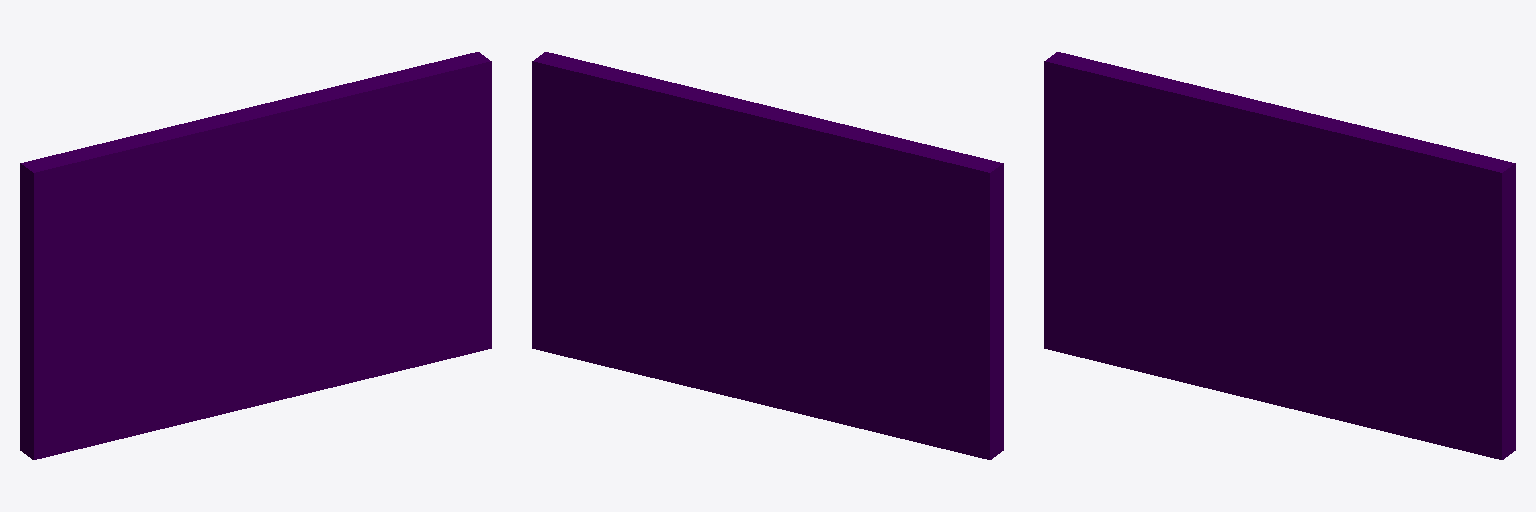
The robot description file, URDF, robot "car_robot":
<?xml version='1.0'?>

<robot name="car_robot">
    
    <material name="blue">
        <color rgba="0 0.4 0.5 1"/>
    </material>
    
    <!--dummy link-->
    <link name="base_link"/>
    
    
    <!-- chassis link -->
    <link name="chassis-link">
        <visual>
            <origin xyz="0 0 0" rpy="0 0 0" />
            <geometry>
                <box size="0.2 0.12 .01" />
            </geometry>
            <material name="brown">
                <color rgba="0.3 0 0.4 1"/>
            </material>        
        </visual>
        <collision>
            <origin xyz="0 0 0" rpy="0 0 0" />
            <geometry>
                <box size="0.2 0.12 .01" />
            </geometry>
        </collision>
        <inertial>
            <mass value="0.4" />
            <inertia ixx="0.00048333" iyy="0.0013367" izz="0.0018133"
            ixy="0" ixz="0" iyz="0"/>
        </inertial>
    </link>





    <!-- Custom body link -->
    <!-- <link name="chassis-link">
         <fem>
		    <origin xyz="0.06 -0.06 0" rpy="1.57079 0 0" />
            <density value="1040"/>
            <youngs value="1.2e7"/>
            <poissons value="0.36"/>
            <damping value="0.0"/>
            <attachDistance value="0.5"/>
            <tetmesh filename="body_v2.tet"/>
            <scale value="0.001"/>
        </fem>
    </link> -->



    
    <!-- Soft body link attached to the chassis -->
    <link name="soft-leg-front-left" type="revolute">
        <fem>
		    <origin xyz="0.06 -0.06 0" rpy="1.57079 0 0" />
            <density value="1040"/>
            <youngs value="1.2e7"/>
            <poissons value="0.36"/>
            <damping value="0.0"/>
            <attachDistance value="0.5"/>
            <tetmesh filename="deneme.tet"/>
            <scale value="0.001"/>
        </fem>
    </link>

    <!-- Soft body link attached to the chassis -->
    <link name="soft-leg-front-right" type="revolute">
        <fem>
		    <origin xyz="0.06 0.085 0" rpy="1.57079 0 0" />
            <density value="1040"/>
            <youngs value="1.2e7"/>
            <poissons value="0.36"/>
            <damping value="0.0"/>
            <attachDistance value="0.5"/>
            <tetmesh filename="deneme2.tet"/>
            <scale value="0.001"/>
        </fem>
    </link>

        <!-- Soft body link attached to the chassis -->
    <link name="soft-leg-back-left" type="revolute">
        <fem>
		    <origin xyz="-0.06 0.085 0" rpy="1.57079 0 0" />
            <density value="1040"/>
            <youngs value="1.2e7"/>
            <poissons value="0.36"/>
            <damping value="0.0"/>
            <attachDistance value="0.5"/>
            <tetmesh filename="deneme3.tet"/>
            <scale value="0.001"/>
        </fem>
    </link>

        <!-- Soft body link attached to the chassis -->
    <link name="soft-leg-back-right" type="revolute"> 
        <fem>
		    <origin xyz="-0.06 -0.06 0" rpy="1.57079 0 0" />
            <density value="1040"/>
            <youngs value="1.2e7"/>
            <poissons value="0.36"/>
            <damping value="0.0"/>
            <attachDistance value="0.5"/>
            <tetmesh filename="deneme4.tet"/>
            <scale value="0.001"/>
        </fem>
    </link>

    <joint name="joint-base-chassis" type="continuous">
        <parent link="base_link"/>
        <child link="chassis-link"/>
        <origin xyz="0 0 0" rpy="1.57079 0 0" />
    </joint>    
    
	<joint name="joint-chassis-front-left-wheel" type="continuous">
		<parent link="chassis-link"/>
		<child link="soft-leg-front-left"/>
		<origin xyz="0.06 -0.065 0" rpy="0 0 0" />
		<axis xyz="0 1 0" />
        <limit lower="-1.57" upper="1.57" effort="1.0" velocity="0.5"/> 
	</joint>

	<joint name="joint-chassis-front-right-wheel" type="continuous">
		<parent link="chassis-link"/>
		<child link="soft-leg-front-right"/>
		<origin xyz="0.06 0.065 0" rpy="0 0 0" />
		<axis xyz="0 1 0" />
        <limit lower="-1.57" upper="1.57" effort="1.0" velocity="0.5"/> 

	</joint>
	
	<joint name="joint-chassis-rare-right-wheel" type="continuous">
		<parent link="chassis-link"/>
		<child link="soft-leg-back-right"/>
		<origin xyz="-0.06 0.065 0" rpy="0 0 0" />
		<axis xyz="0 1 0" />
        <limit lower="-1.57" upper="1.57" effort="1.0" velocity="0.5"/> 

	</joint>
	
	<joint name="joint-chassis-rare-left-wheel" type="continuous">
		<parent link="chassis-link"/>
		<child link="soft-leg-back-left"/>
		<origin xyz="-0.06 -0.065 0" rpy="0 0 0" />
		<axis xyz="0 1 0" />
        <limit lower="-1.57" upper="1.57" effort="1.0" velocity="0.5"/> 
	</joint>
    

</robot>

--- Facts derived from the render (not from the file) ---
Views: 3 orthographic renders of the robot side by side, from view 1: azimuth 30°, elevation 25°; view 2: azimuth 150°, elevation 25°; view 3: azimuth 330°, elevation 25°.
Model car_robot with 6 links and 5 joints (5 continuous), rooted at base_link, posed all joints at 0.
Visible links, largest first — view 1: chassis-link; view 2: chassis-link; view 3: chassis-link.
Link boxes in pixels (bbox=[...]): chassis-link: bbox=[20, 52, 491, 459]; chassis-link: bbox=[532, 52, 1003, 459]; chassis-link: bbox=[1044, 52, 1515, 459].
Size in the robot's own frame: 0.2 by 0.01 by 0.12 metres.
Geometry: primitives only (box / cylinder / sphere), no mesh files.